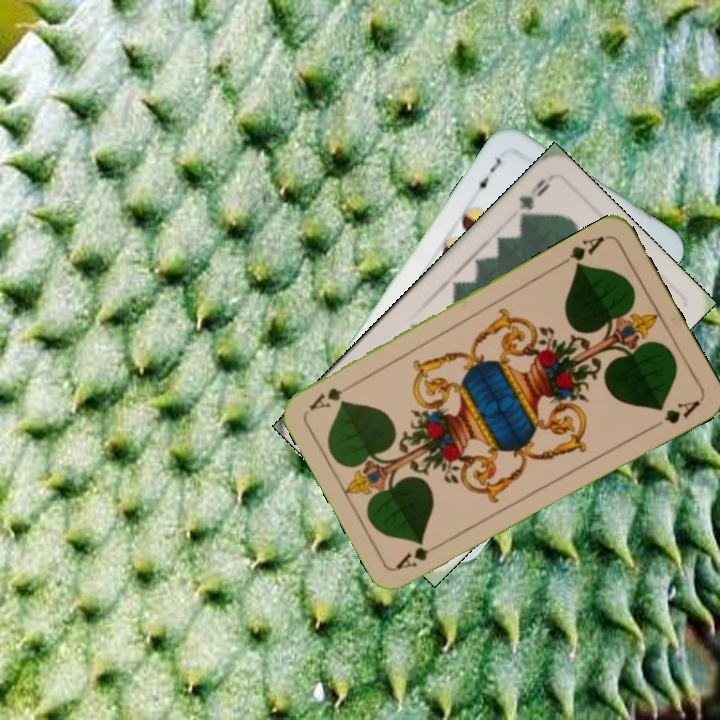E7: (470, 153, 504, 195)
G9: (514, 174, 553, 224)
GA: (555, 231, 607, 272), (392, 537, 447, 573)
